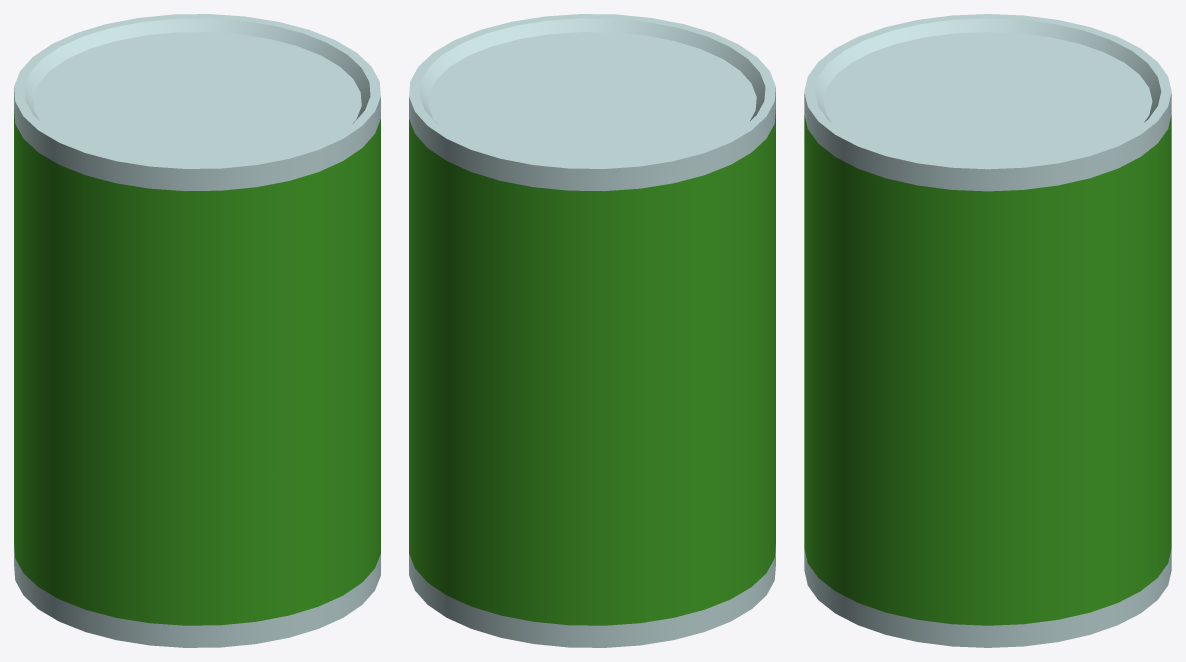
Rendered from can_peas.glb.
The picture shows the model from 3 angles, left to right: view 1: azimuth 30°, elevation 25°; view 2: azimuth 150°, elevation 25°; view 3: azimuth 270°, elevation 25°; orthographic projection.
Visible parts, largest first — view 1: can_peas; view 2: can_peas; view 3: can_peas.
Part boxes in pixels (x1=…): can_peas: x1=14, y1=14, x2=380, y2=647; can_peas: x1=409, y1=14, x2=775, y2=647; can_peas: x1=804, y1=14, x2=1171, y2=647.
Size of the model in its own units: 0.08 by 0.115 by 0.08.
